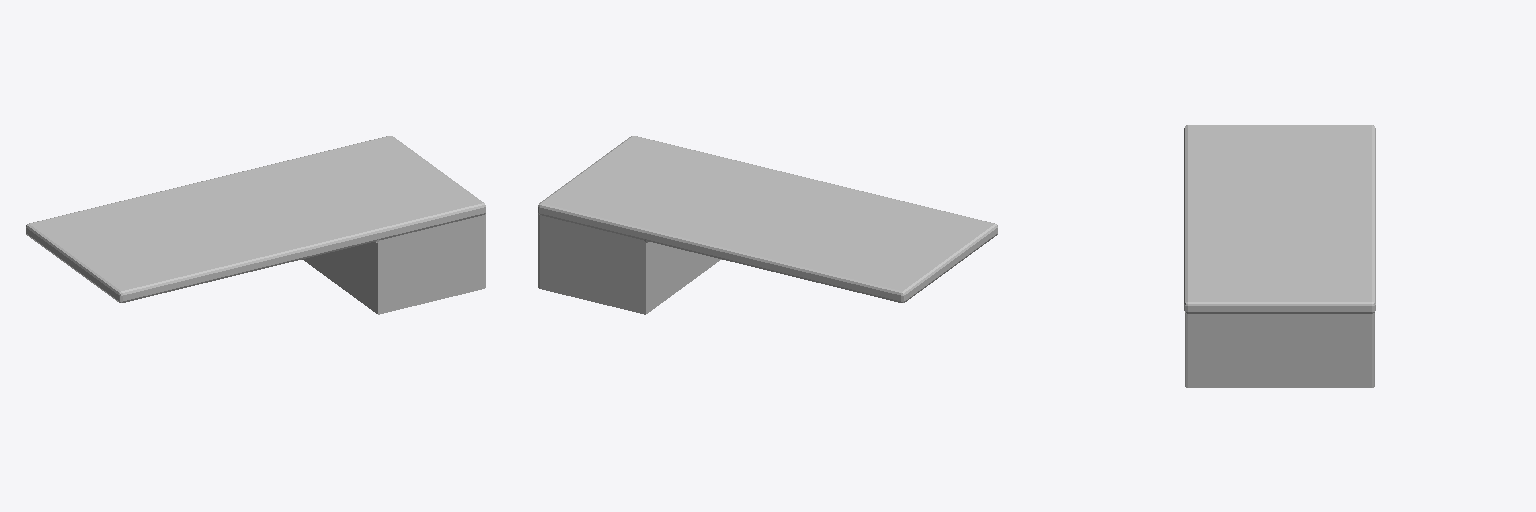
Rendered from Table3.obj.
3 renders of one model, left to right at view 1: azimuth 30°, elevation 25°; view 2: azimuth 150°, elevation 25°; view 3: azimuth 270°, elevation 25°, orthographic.
Parts seen in each view (by area): view 1: pCube3; view 2: pCube3; view 3: pCube3.
Part boxes in pixels (x1,y1,x2,y2): pCube3: (26, 136, 485, 314); pCube3: (538, 136, 997, 314); pCube3: (1184, 125, 1375, 387).
Bounding box in the file's own units: 13.81 × 3.05 × 6.22.